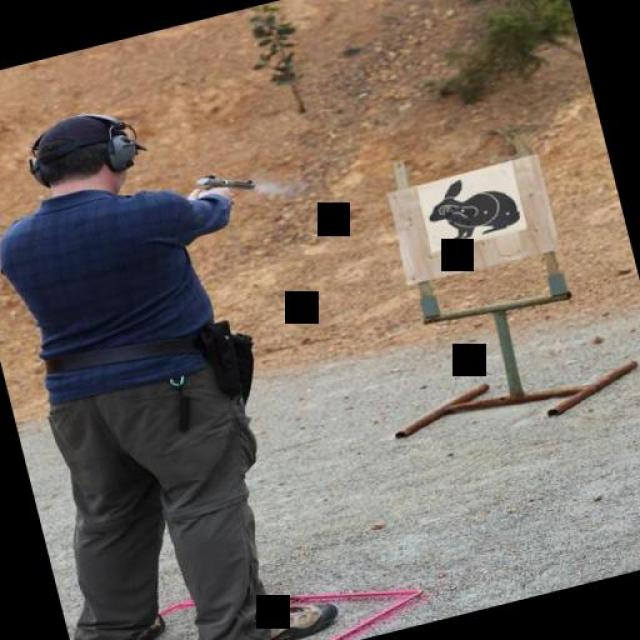gun: (180, 156, 265, 214)
